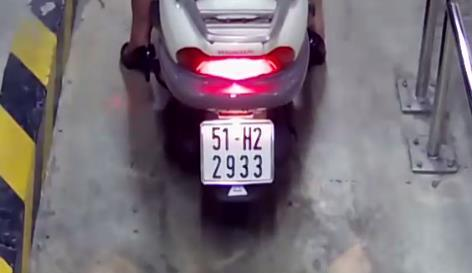lisence: (199, 120, 276, 184)
